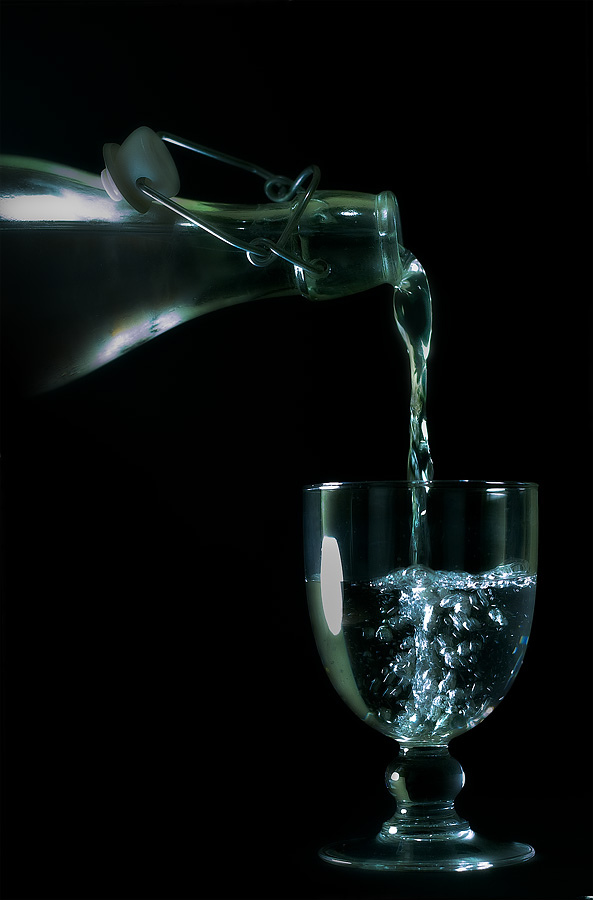glass of water: (9, 116, 468, 425), (287, 436, 555, 876)
